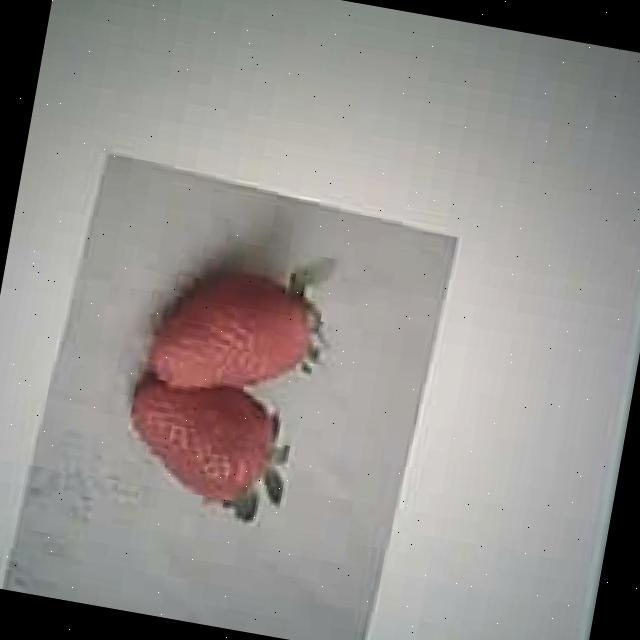strawberry: (156, 260, 319, 406), (122, 374, 280, 507)
